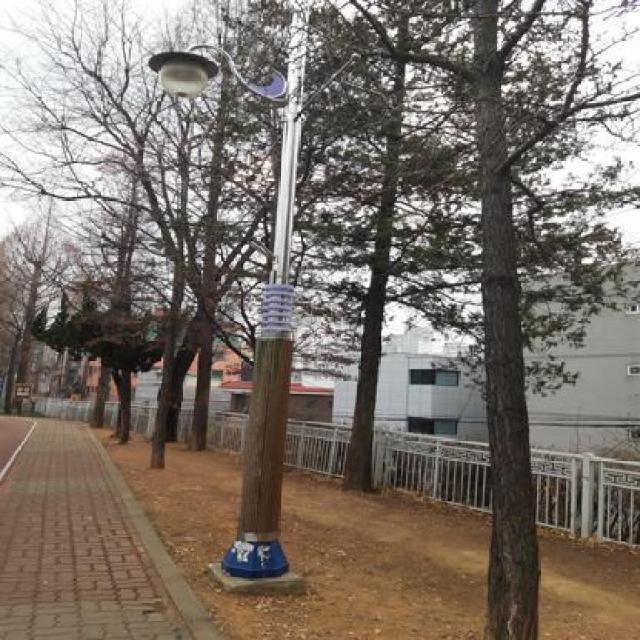pole: (204, 18, 330, 604)
